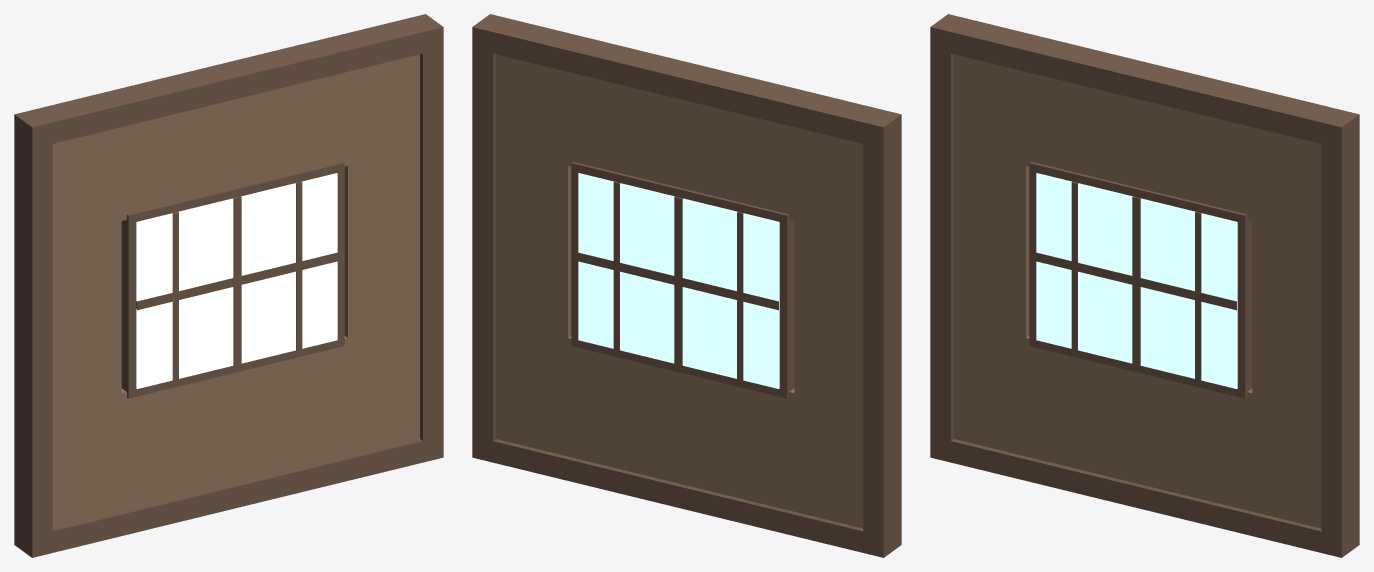
Rendered from haunted_wall_windowlarge.glb.
3 renders of one model, left to right at view 1: azimuth 30°, elevation 25°; view 2: azimuth 150°, elevation 25°; view 3: azimuth 330°, elevation 25°, orthographic.
Visible parts, largest first — view 1: Haunted_Wall_WindowLarge; view 2: Haunted_Wall_WindowLarge; view 3: Haunted_Wall_WindowLarge.
Boxes of the visible parts, left/top/right/bottom form: Haunted_Wall_WindowLarge: left=14, top=14, right=443, bottom=557; Haunted_Wall_WindowLarge: left=472, top=14, right=901, bottom=557; Haunted_Wall_WindowLarge: left=930, top=14, right=1359, bottom=557.
Bounding box in the file's own units: 4 × 4 × 0.3.
